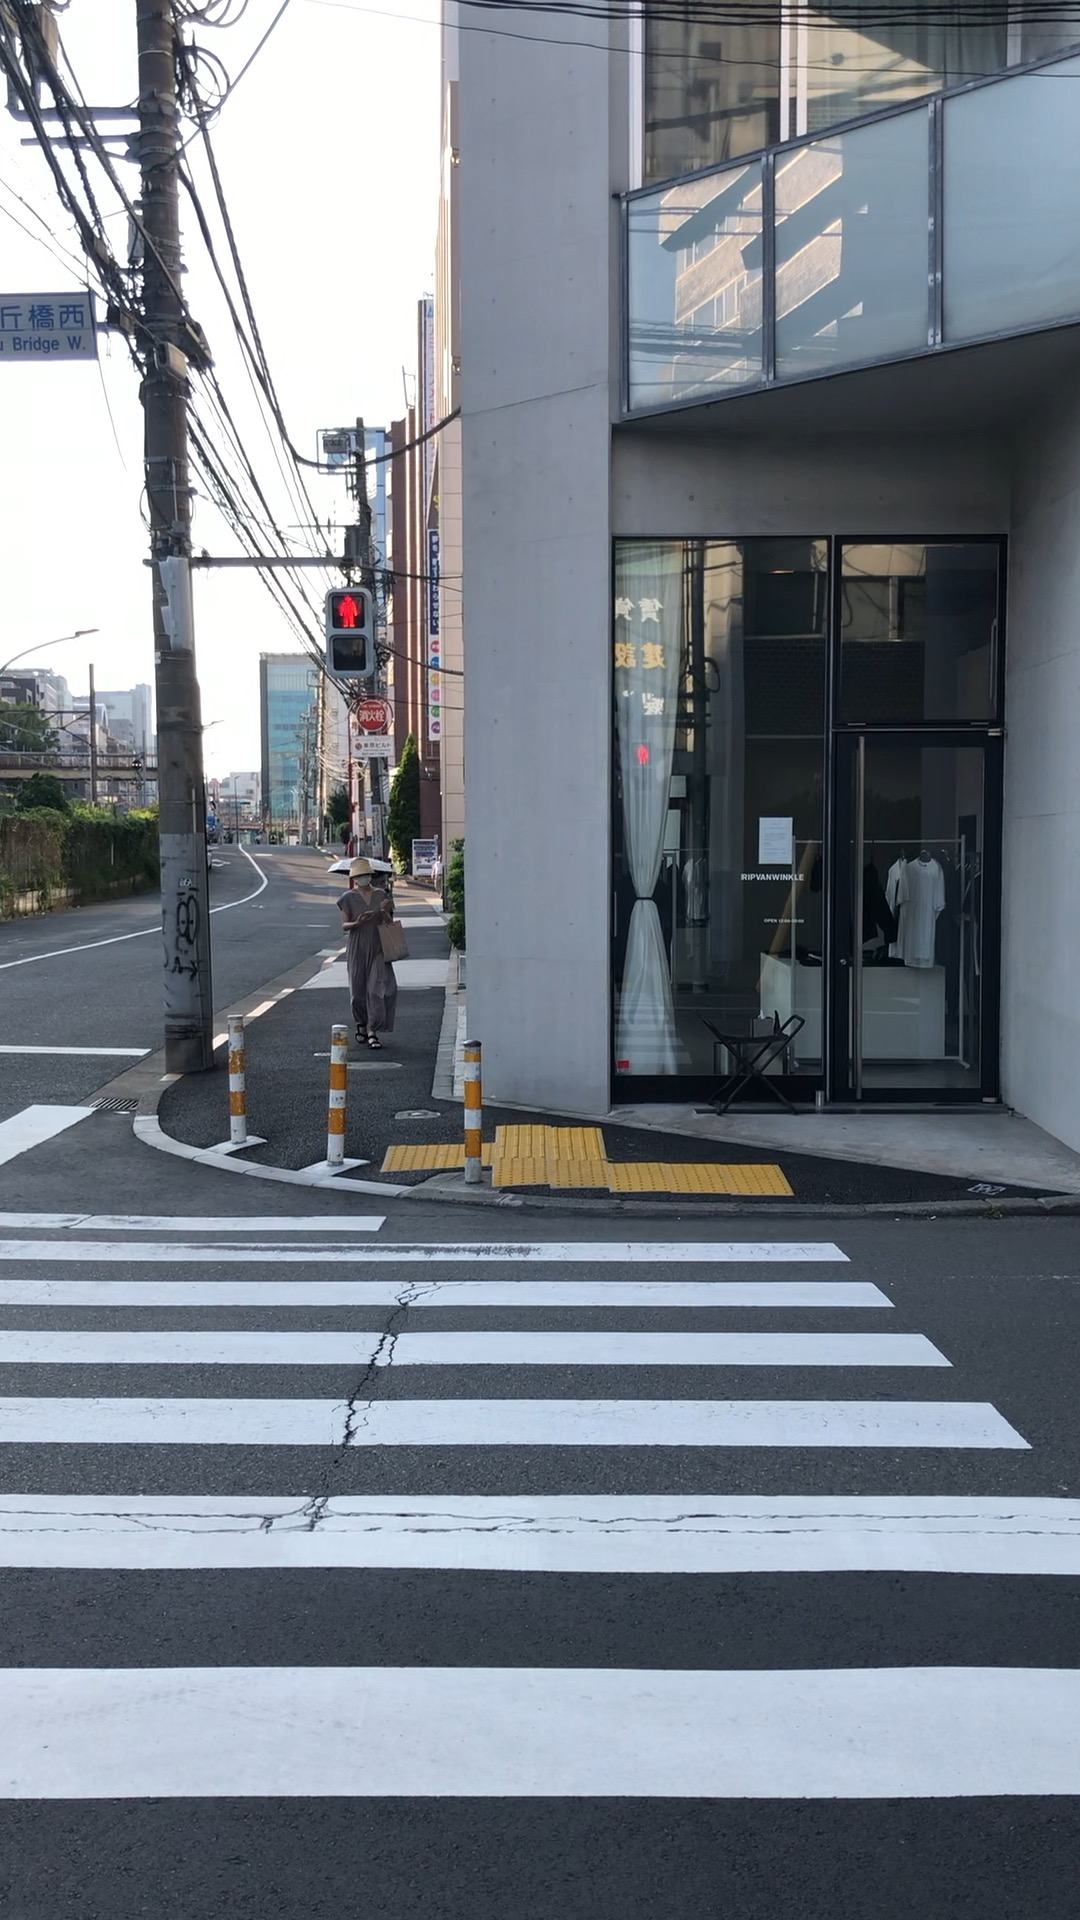red: (324, 585, 373, 678)
